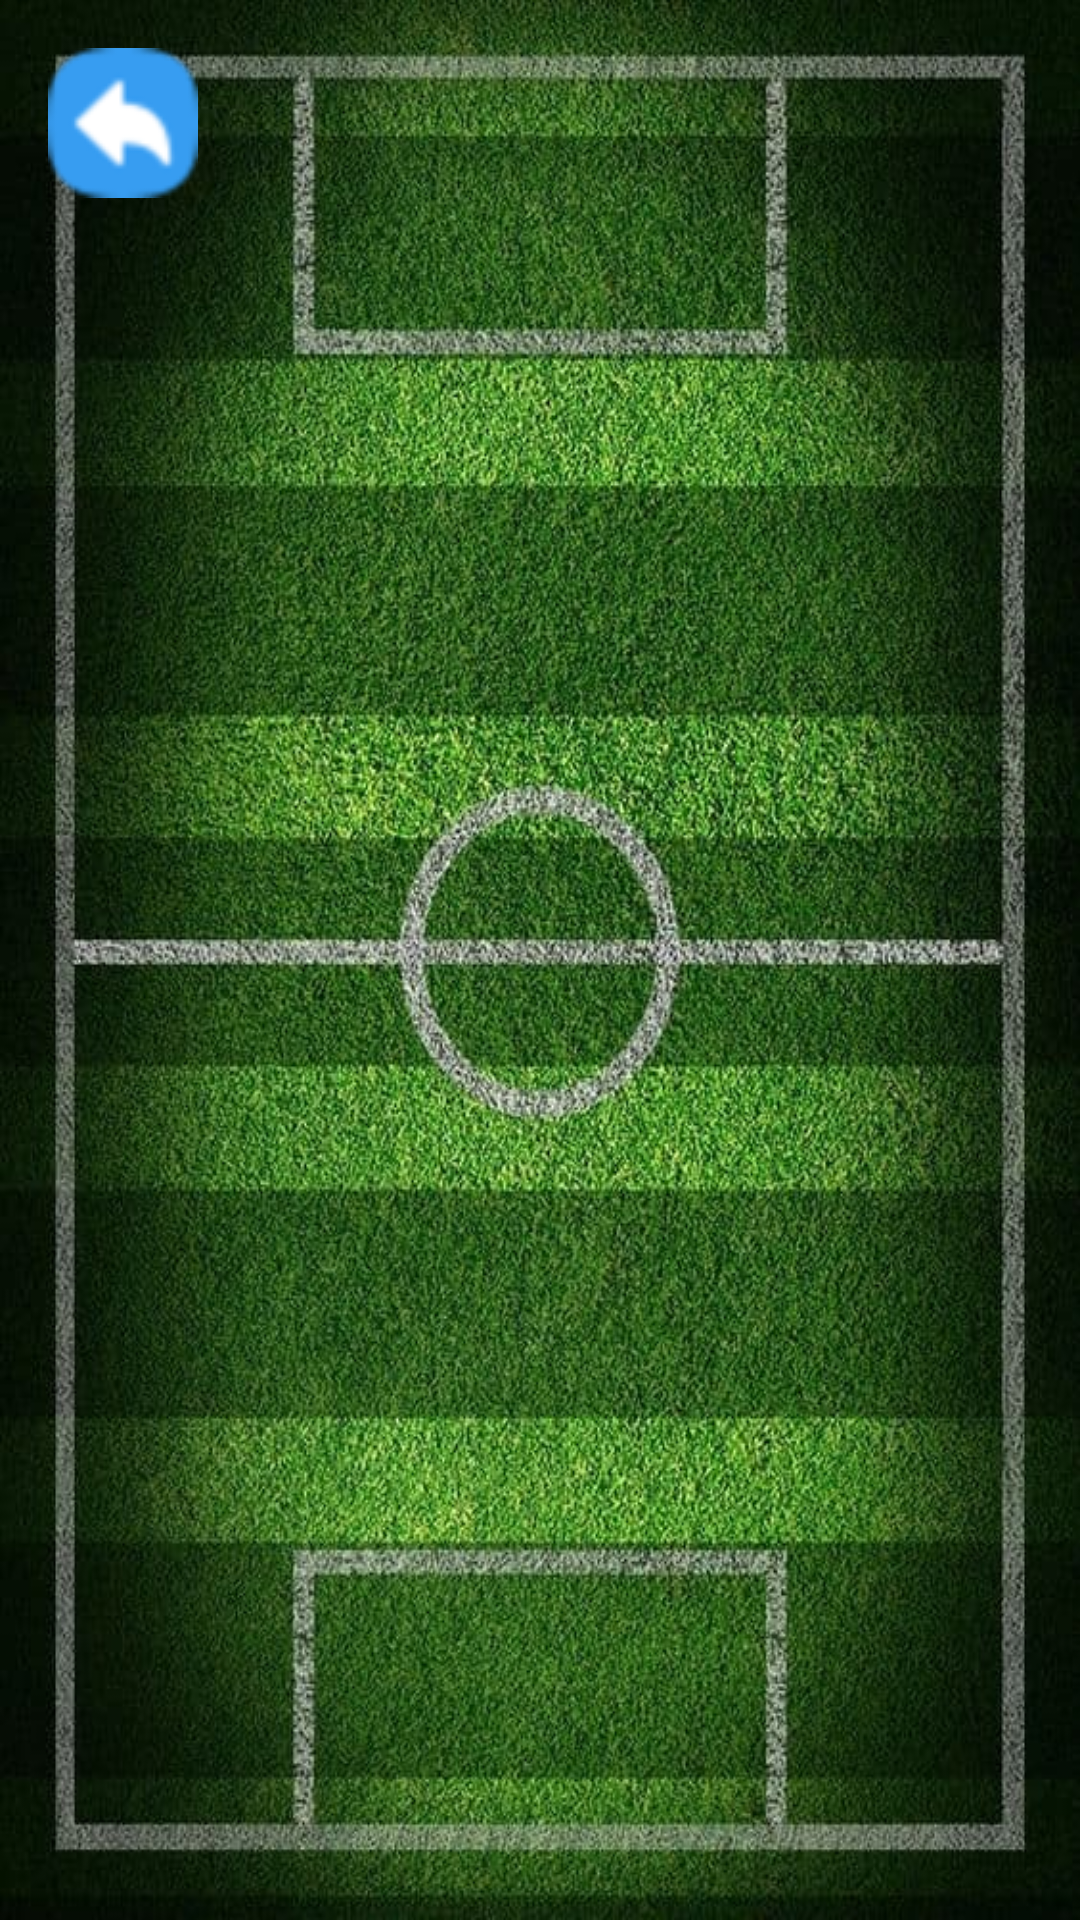

Icons on this 1080w x 1920h Android screen, each with its box as (x1, y1, x2, y2):
atras: (48, 48, 198, 198)
